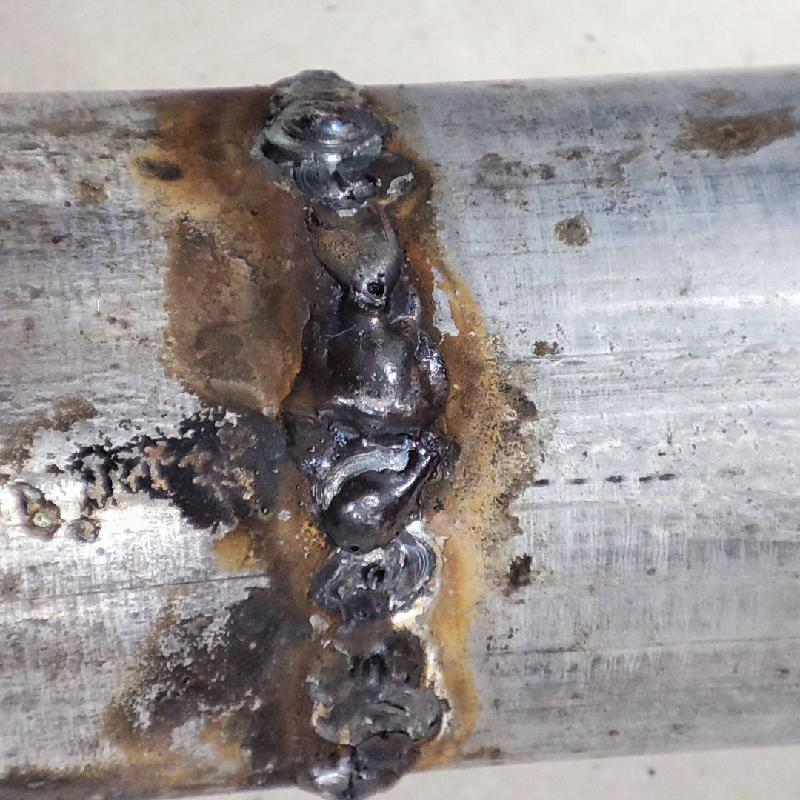Not_fully_soldered: (296, 548, 451, 751), (288, 160, 421, 317)
Surface_pores: (348, 267, 400, 310)
Weld: (288, 316, 459, 551)
wrong_size: (257, 68, 407, 160)
